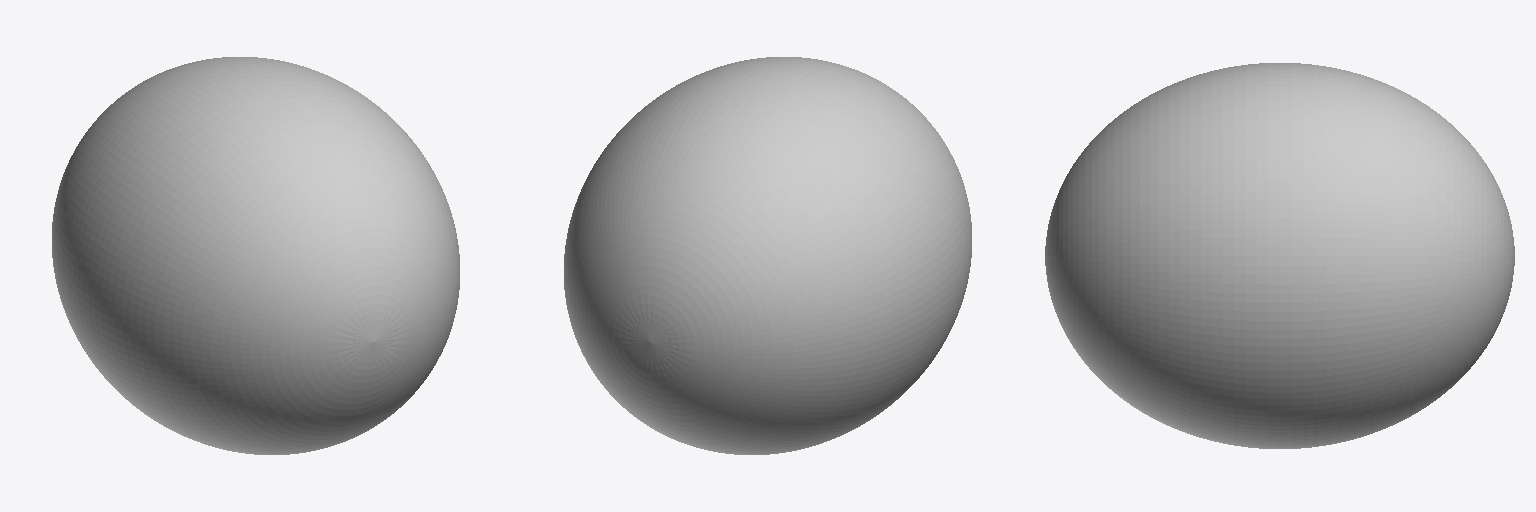
The model's file is sun.obj.
3 renders of one model, left to right at view 1: azimuth 30°, elevation 25°; view 2: azimuth 150°, elevation 25°; view 3: azimuth 270°, elevation 25°, orthographic.
Visible parts, largest first — view 1: 13913_Sun_v2_l3; view 2: 13913_Sun_v2_l3; view 3: 13913_Sun_v2_l3.
Boxes of the visible parts, box(x1,y1,x2,y2) form: 13913_Sun_v2_l3: box(52, 57, 459, 454); 13913_Sun_v2_l3: box(564, 57, 971, 454); 13913_Sun_v2_l3: box(1045, 63, 1514, 448).
Size of the model in its own units: 36.42 by 36.42 by 44.37.